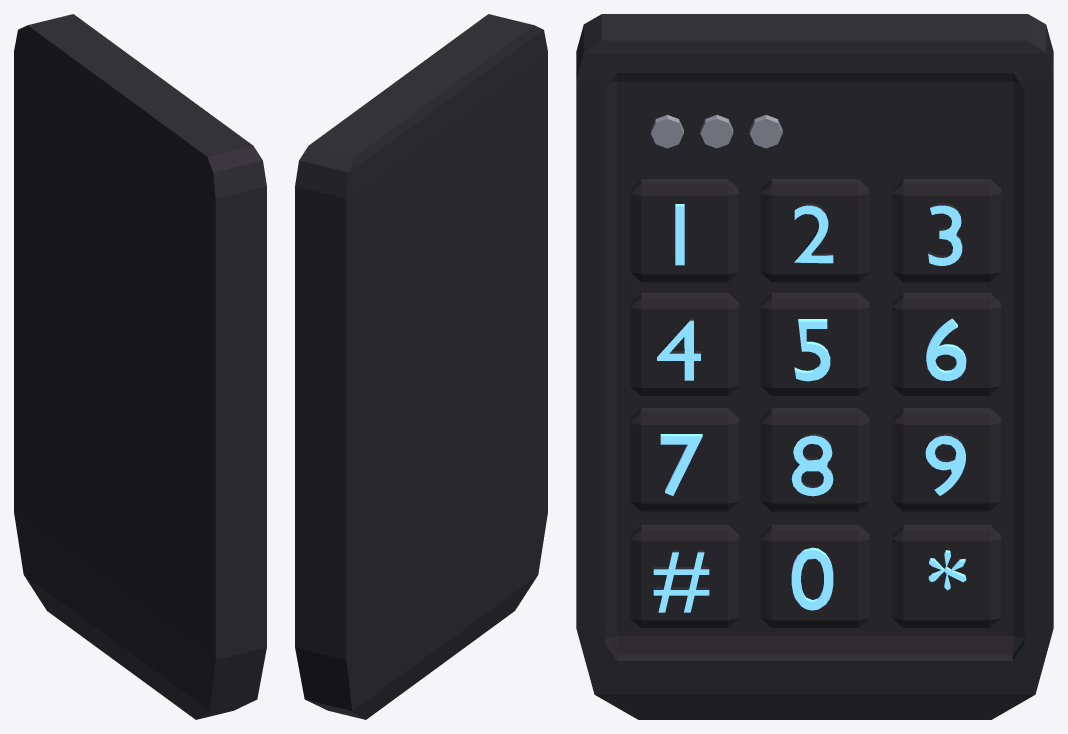
File: numpad003 1.fbx
3 renders of one model, left to right at view 1: azimuth 30°, elevation 25°; view 2: azimuth 150°, elevation 25°; view 3: azimuth 270°, elevation 25°, orthographic. The views are drawn at different scales.
Parts seen in each view (by area): view 1: Body; view 2: Body; view 3: Body, 8, 5, 0, 2, 9, 7, #, *, 4, 6, 1 (+2 smaller).
Boxes of the visible parts, bbox=[...] form: Body: bbox=[14, 14, 266, 719]; Body: bbox=[295, 14, 547, 719]; Body: bbox=[576, 14, 1053, 719]; 8: bbox=[760, 408, 869, 511]; 5: bbox=[760, 292, 869, 395]; 0: bbox=[760, 524, 869, 627]; 2: bbox=[760, 179, 869, 282]; 9: bbox=[892, 408, 1000, 511]; 7: bbox=[630, 408, 738, 511]; #: bbox=[630, 524, 738, 627]; *: bbox=[892, 524, 1000, 627]; 4: bbox=[630, 292, 738, 395]; 6: bbox=[892, 292, 1000, 395]; 1: bbox=[630, 179, 738, 282].
Bounding box in the file's own units: 4.86 × 50.42 × 32.
